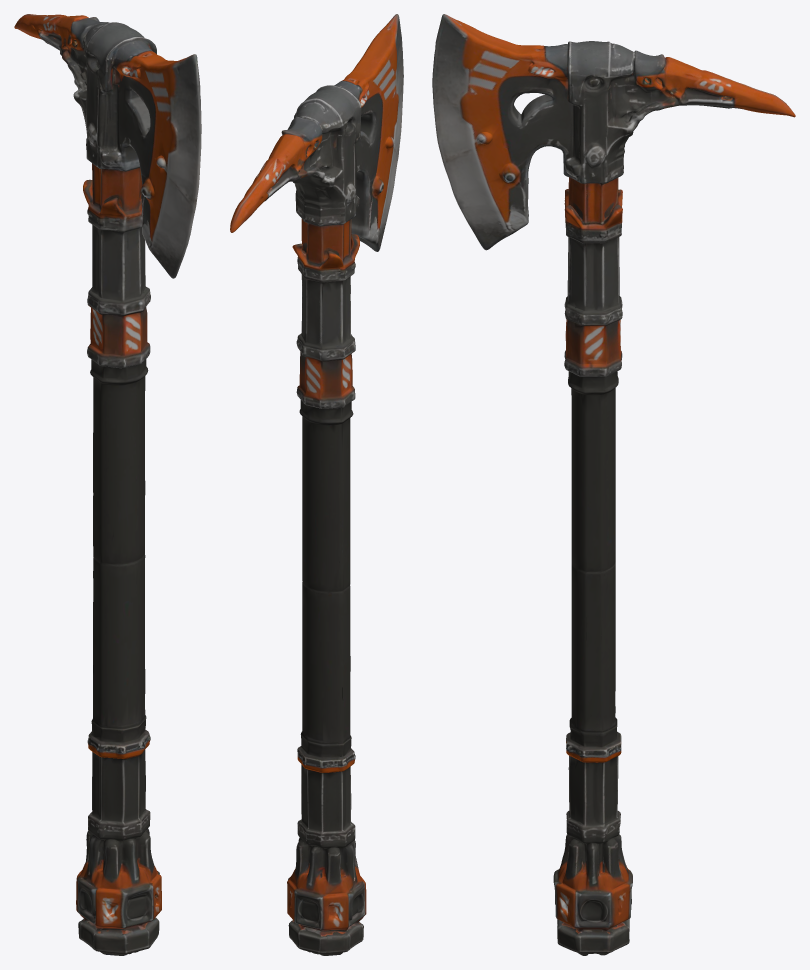
3 renders of one model, left to right at view 1: azimuth 30°, elevation 25°; view 2: azimuth 150°, elevation 25°; view 3: azimuth 270°, elevation 25°, orthographic. The views are drawn at different scales.
Visible parts, largest first — view 1: tripo_node_c36af171-ab2c-4450-abe2-ef3e5b6bc784; view 2: tripo_node_c36af171-ab2c-4450-abe2-ef3e5b6bc784; view 3: tripo_node_c36af171-ab2c-4450-abe2-ef3e5b6bc784.
Boxes of the visible parts, x1,y1,x2,y2 form: tripo_node_c36af171-ab2c-4450-abe2-ef3e5b6bc784: [14, 14, 201, 955]; tripo_node_c36af171-ab2c-4450-abe2-ef3e5b6bc784: [230, 14, 403, 955]; tripo_node_c36af171-ab2c-4450-abe2-ef3e5b6bc784: [432, 14, 795, 955].
Bounding box in the file's own units: 0.0772 × 1 × 0.3531.
Materials: 1 (1 with a texture image).
